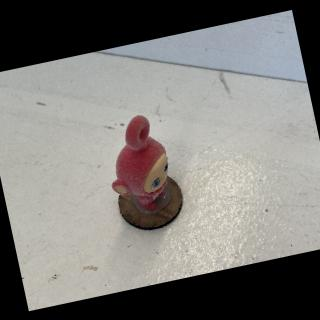teletubby: (112, 115, 168, 210)
